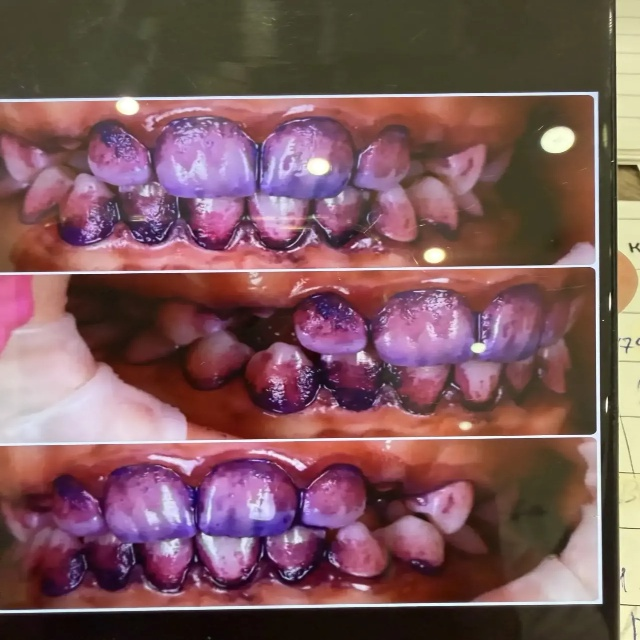plaque: (26, 457, 366, 595), (62, 116, 401, 251), (275, 290, 553, 407), (269, 362, 314, 414), (414, 487, 463, 527)
